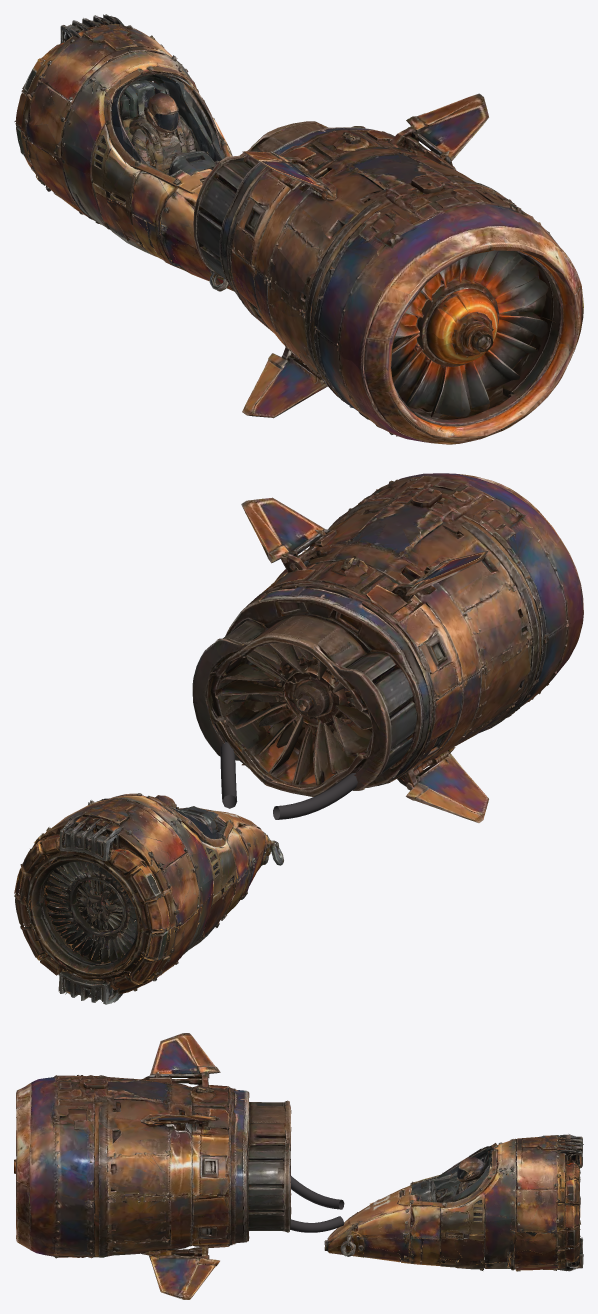
Rendered from crucible-hero.glb.
The picture shows the model from 3 angles, top to bottom: view 1: azimuth 30°, elevation 25°; view 2: azimuth 150°, elevation 25°; view 3: azimuth 270°, elevation 25°; orthographic projection. The views are drawn at different scales.
Visible parts, largest first — view 1: crucible-engine-body, crucible-cockpit-body; view 2: crucible-engine-body, crucible-cockpit-body, crucible-tow-cables; view 3: crucible-engine-body, crucible-cockpit-body, crucible-tow-cables.
Boxes of the visible parts, x1,y1,x2,y2 form: crucible-engine-body: (193, 93, 583, 444); crucible-cockpit-body: (14, 14, 234, 291); crucible-engine-body: (192, 473, 583, 822); crucible-cockpit-body: (14, 793, 283, 1004); crucible-tow-cables: (220, 741, 357, 819); crucible-engine-body: (14, 1033, 291, 1299); crucible-cockpit-body: (324, 1134, 583, 1271); crucible-tow-cables: (290, 1176, 344, 1232).
Bounding box in the file's own units: 4.07 × 4.42 × 11.92.
Materials: 3 (2 with a texture image).
